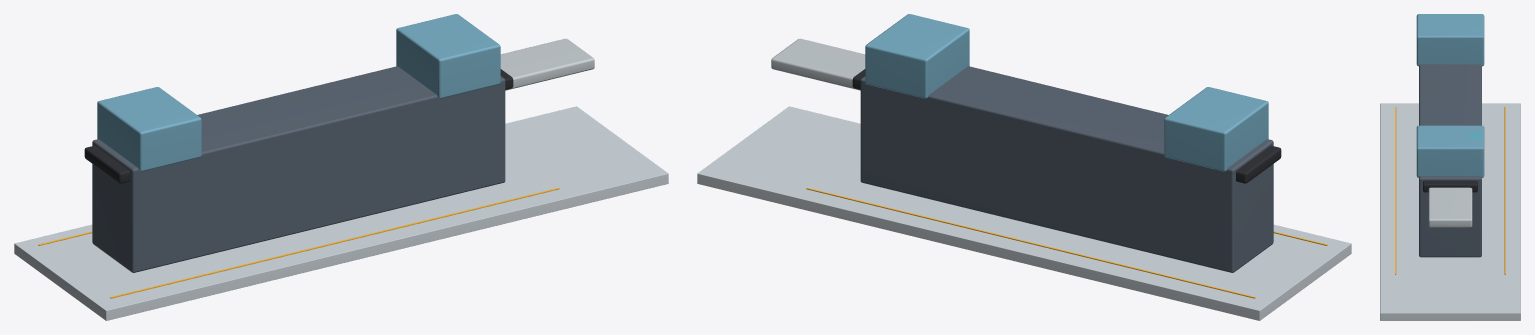
3 views of the same model, side by side, from view 1: azimuth 30°, elevation 25°; view 2: azimuth 150°, elevation 25°; view 3: azimuth 270°, elevation 25° (orthographic). The views are drawn at different scales.
Parts seen in each view (by area): view 1: Industrial frame, Ground plane, Equipment housing, Equipment housing.001, Telescopic extension, Concept clearance guide, Conveying surface; view 2: Industrial frame, Ground plane, Equipment housing, Equipment housing.001, Telescopic extension, Concept clearance guide.001, Conveying surface; view 3: Ground plane, Industrial frame, Equipment housing, Equipment housing.001, Telescopic extension, Conveying surface, Concept clearance guide, Concept clearance guide.001.
Part boxes in pixels (x1=…): Industrial frame: x1=92, y1=66, x2=505, y2=272; Ground plane: x1=14, y1=106, x2=668, y2=320; Equipment housing: x1=97, y1=87, x2=201, y2=171; Equipment housing.001: x1=396, y1=14, x2=500, y2=98; Telescopic extension: x1=500, y1=38, x2=594, y2=90; Concept clearance guide: x1=110, y1=188, x2=559, y2=298; Conveying surface: x1=84, y1=69, x2=513, y2=183; Industrial frame: x1=860, y1=66, x2=1273, y2=272; Ground plane: x1=697, y1=106, x2=1351, y2=320; Equipment housing: x1=1164, y1=87, x2=1268, y2=171; Equipment housing.001: x1=865, y1=14, x2=969, y2=98; Telescopic extension: x1=771, y1=38, x2=865, y2=90; Concept clearance guide.001: x1=806, y1=188, x2=1255, y2=298; Conveying surface: x1=852, y1=69, x2=1281, y2=183; Ground plane: x1=1380, y1=103, x2=1520, y2=320; Industrial frame: x1=1419, y1=64, x2=1481, y2=257; Equipment housing: x1=1416, y1=14, x2=1484, y2=66; Equipment housing.001: x1=1416, y1=125, x2=1484, y2=177; Telescopic extension: x1=1428, y1=187, x2=1472, y2=227; Conveying surface: x1=1423, y1=180, x2=1477, y2=192; Concept clearance guide: x1=1395, y1=106, x2=1396, y2=274; Concept clearance guide.001: x1=1504, y1=106, x2=1505, y2=274.
Bounding box in the file's own units: 6.78 × 1.8 × 1.92.
